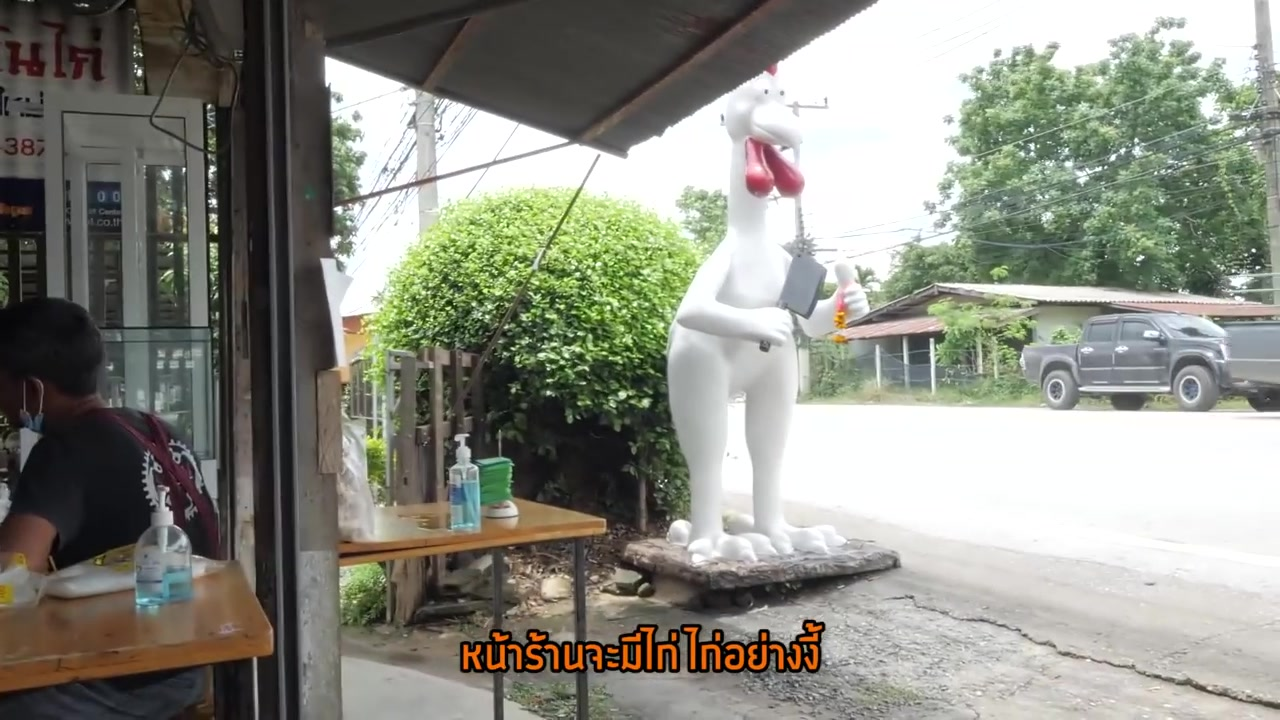text-label: (456, 620, 827, 677)
